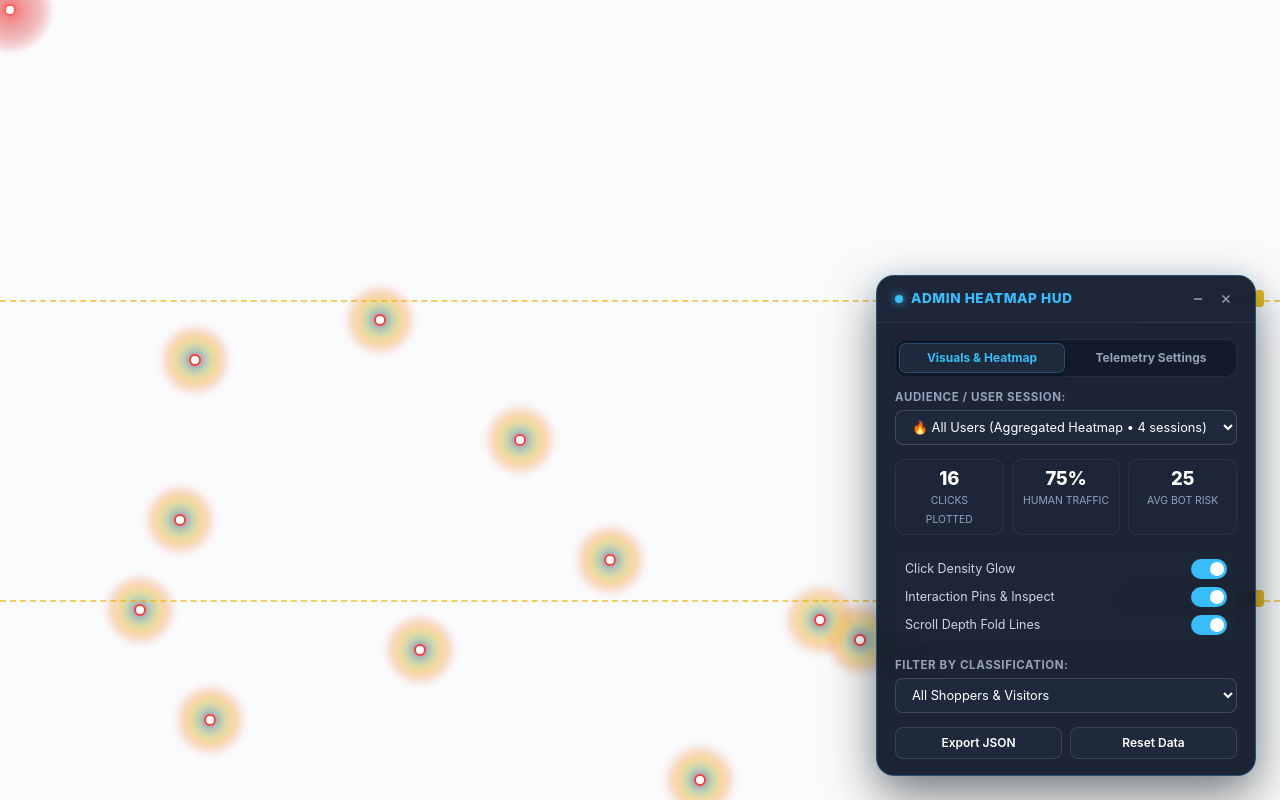
Test: Telemetry & Bot Detection Engine › AdminHeatmapHUD Settings Interface › renders tabs and allows switching to Telemetry Settings panel
expect the text "Admin Heatmap HUD" is shown: met, box [911,291,1072,307]
Switch to Telemetry Settings tab
Click the tab "Telemetry Settings". click: {"x": 1151, "y": 358}
box: [1069,343,1233,373]
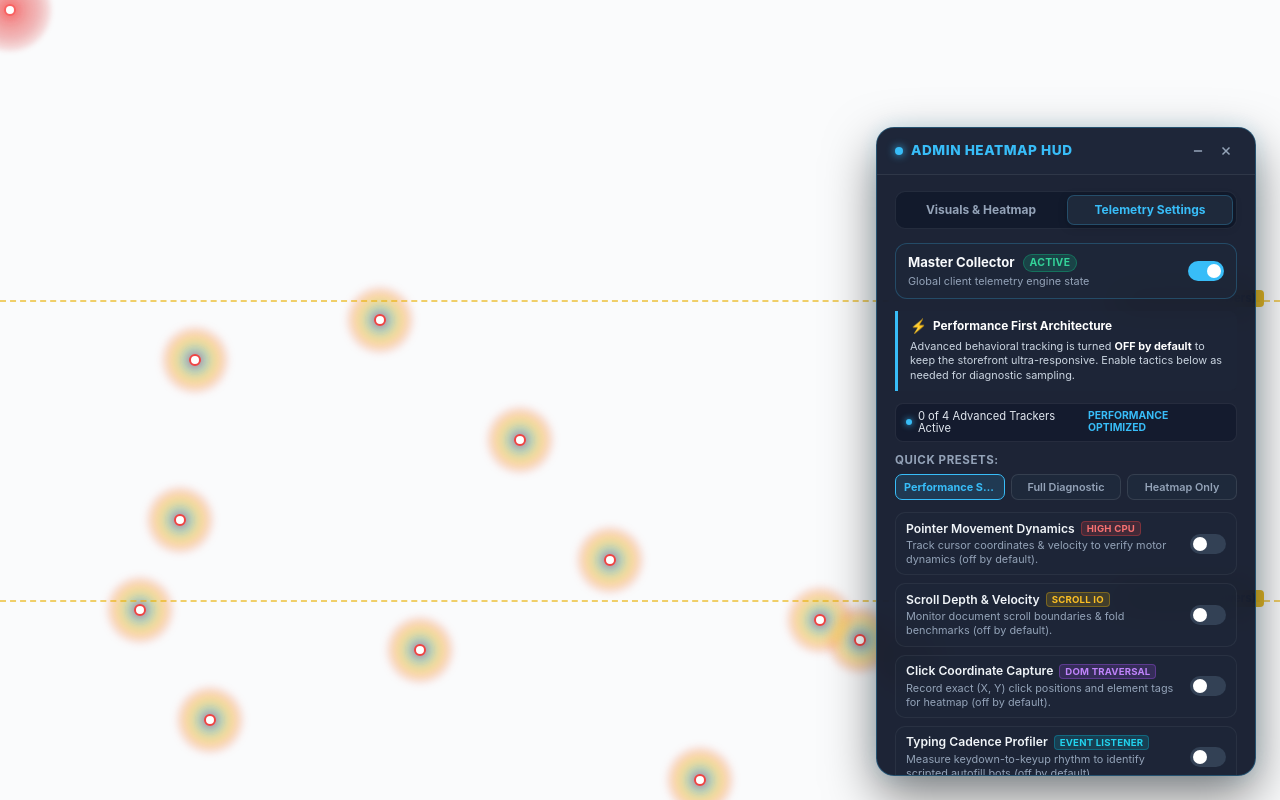
expect the text "Performance First Architecture" is shown: met, box [933,320,1112,334]
expect the button "Performance Safe" is shown: met, box [895,474,1005,500]
expect the button "Full Diagnostic" is shown: met, box [1011,474,1121,500]
